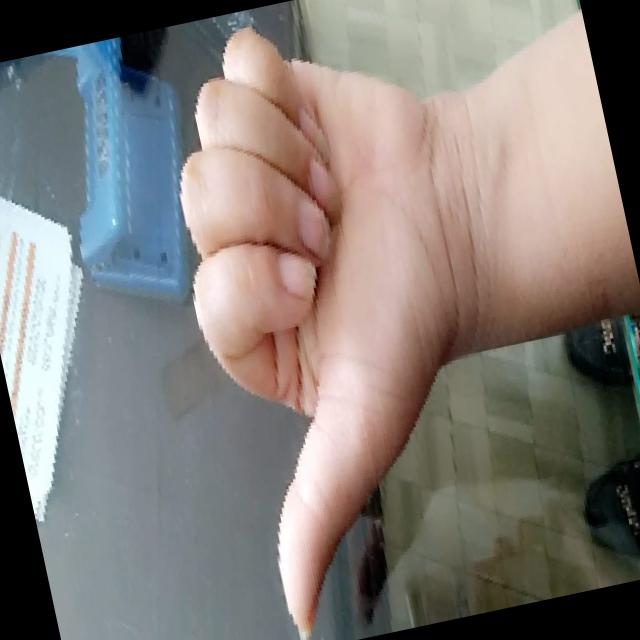Nail: (307, 157, 341, 221), (297, 198, 331, 256), (276, 250, 314, 299), (297, 107, 329, 157)
